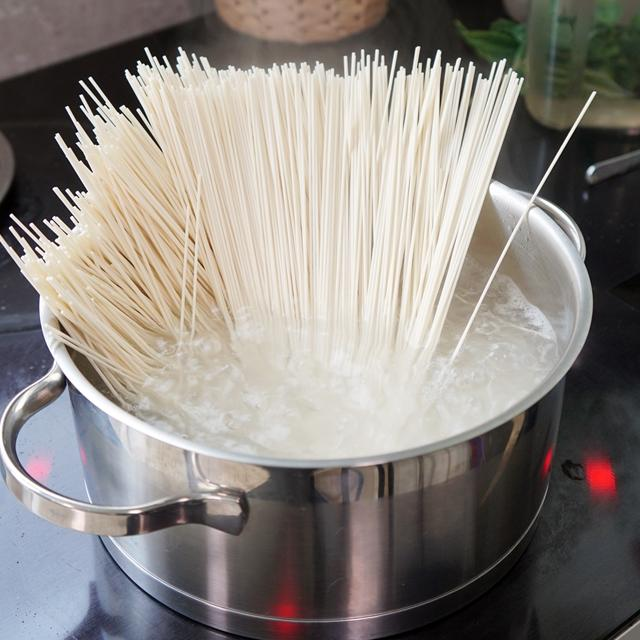noodles: (54, 70, 553, 316)
